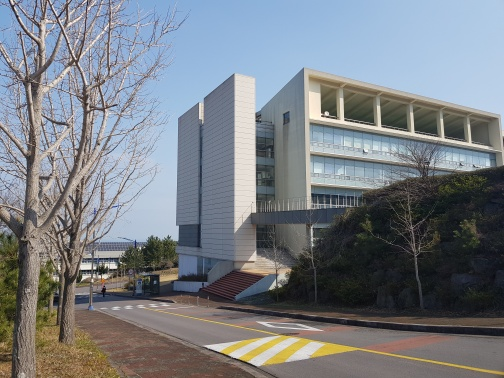Engineering College Building 4: (158, 87, 485, 332), (189, 113, 490, 199), (197, 102, 293, 299)
